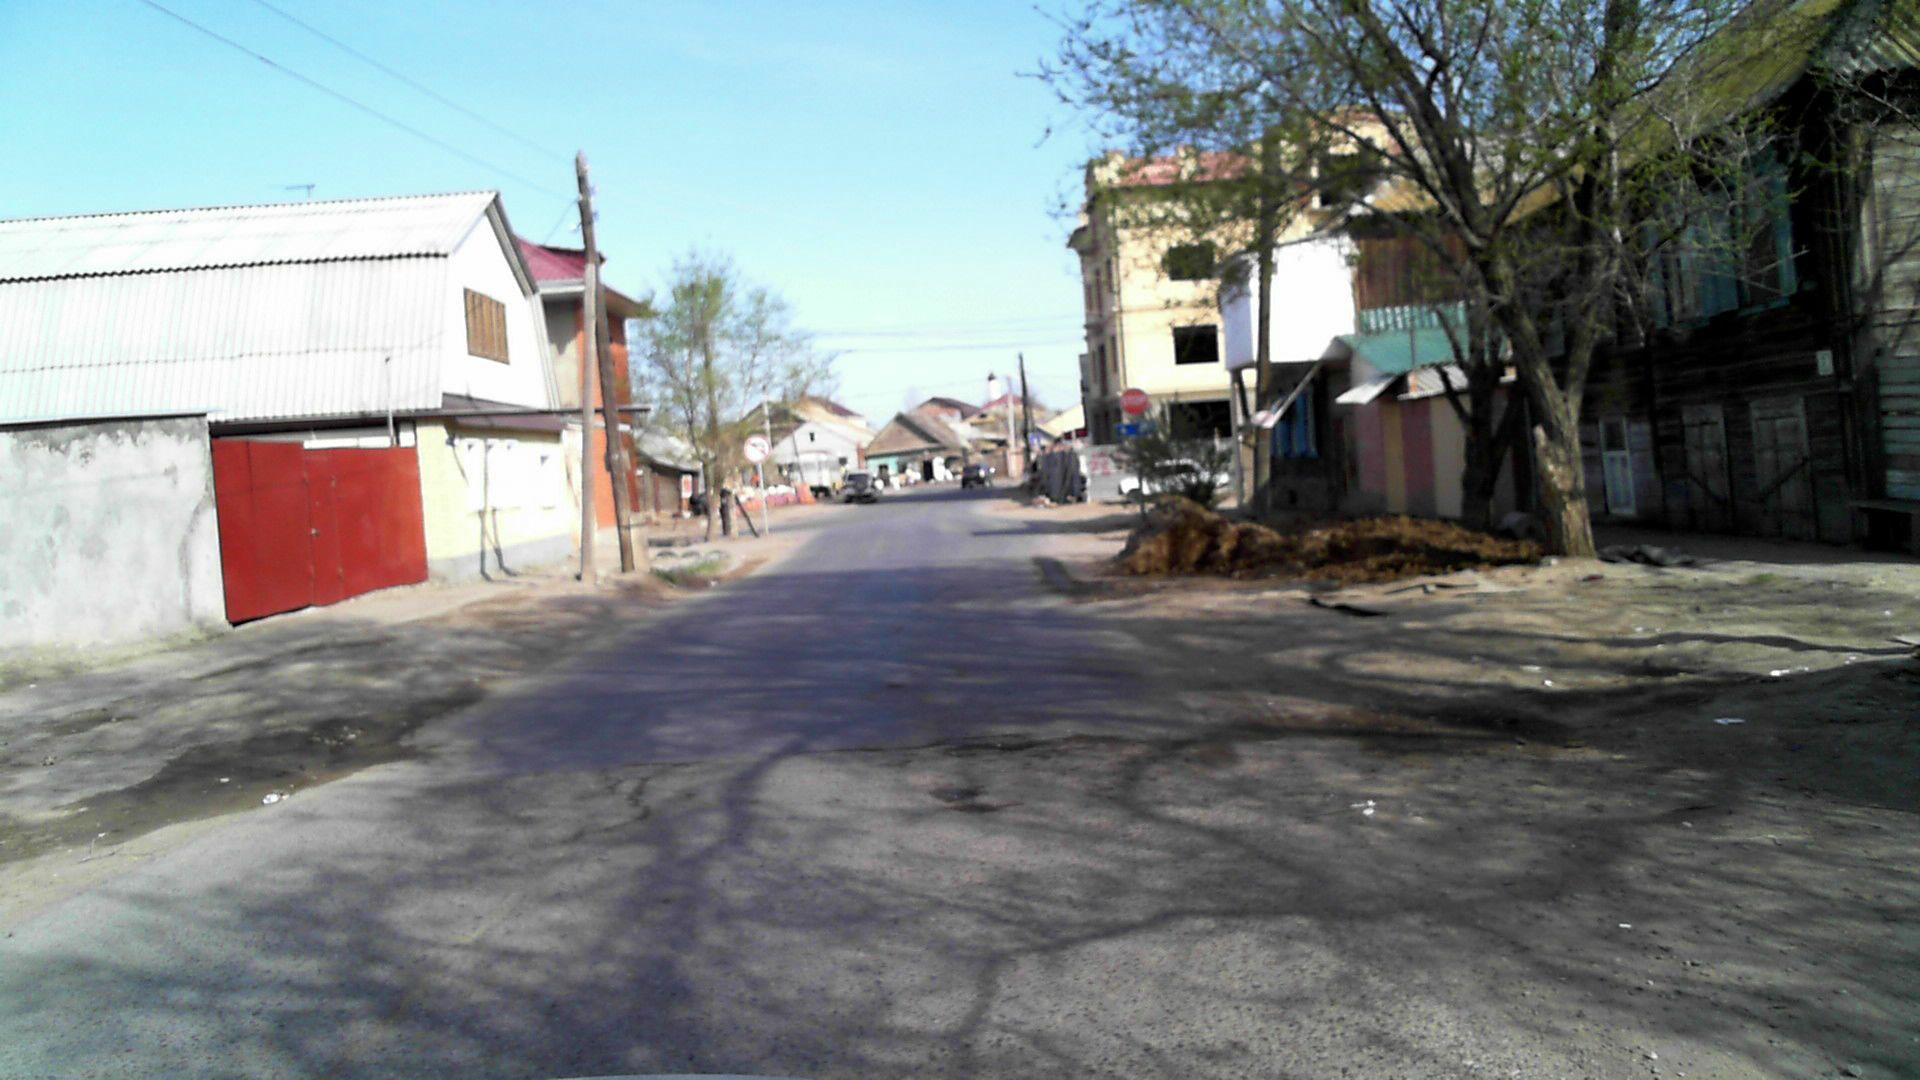2_5: (1120, 384, 1150, 417)
3_18_2: (735, 433, 774, 465)
6_15_1: (1113, 421, 1159, 439)
